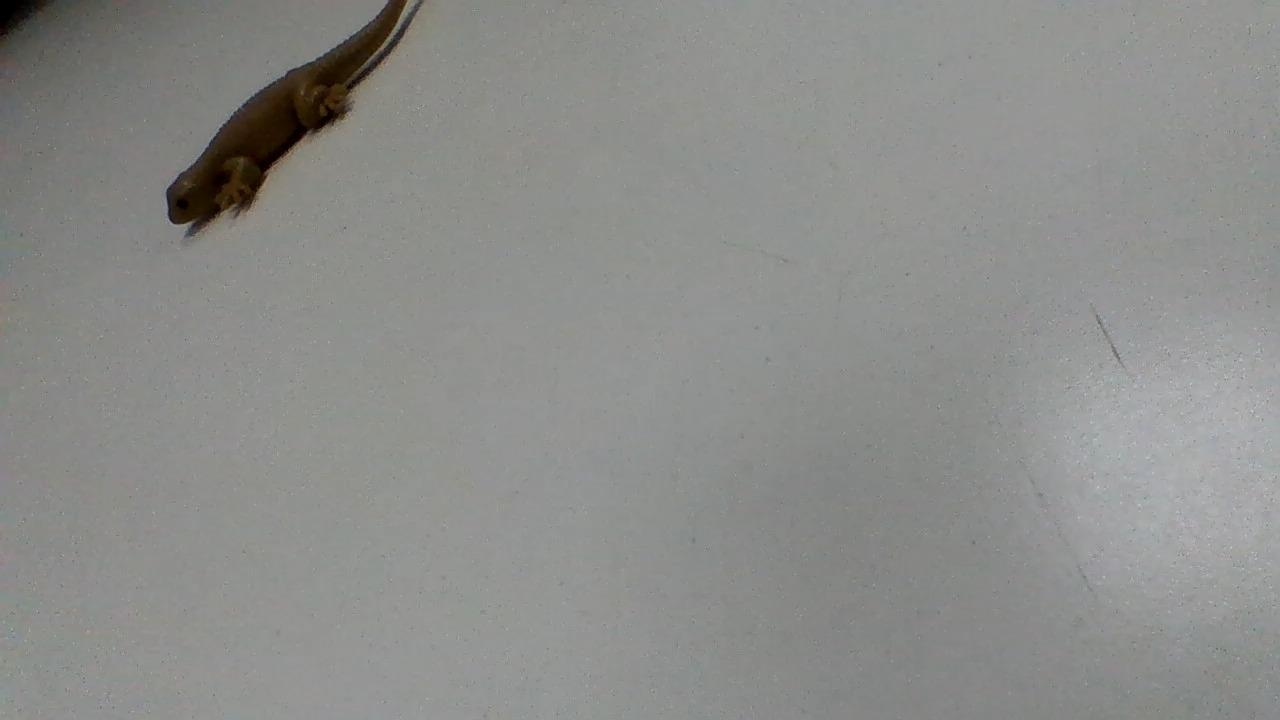lizard: (166, 0, 405, 230)
